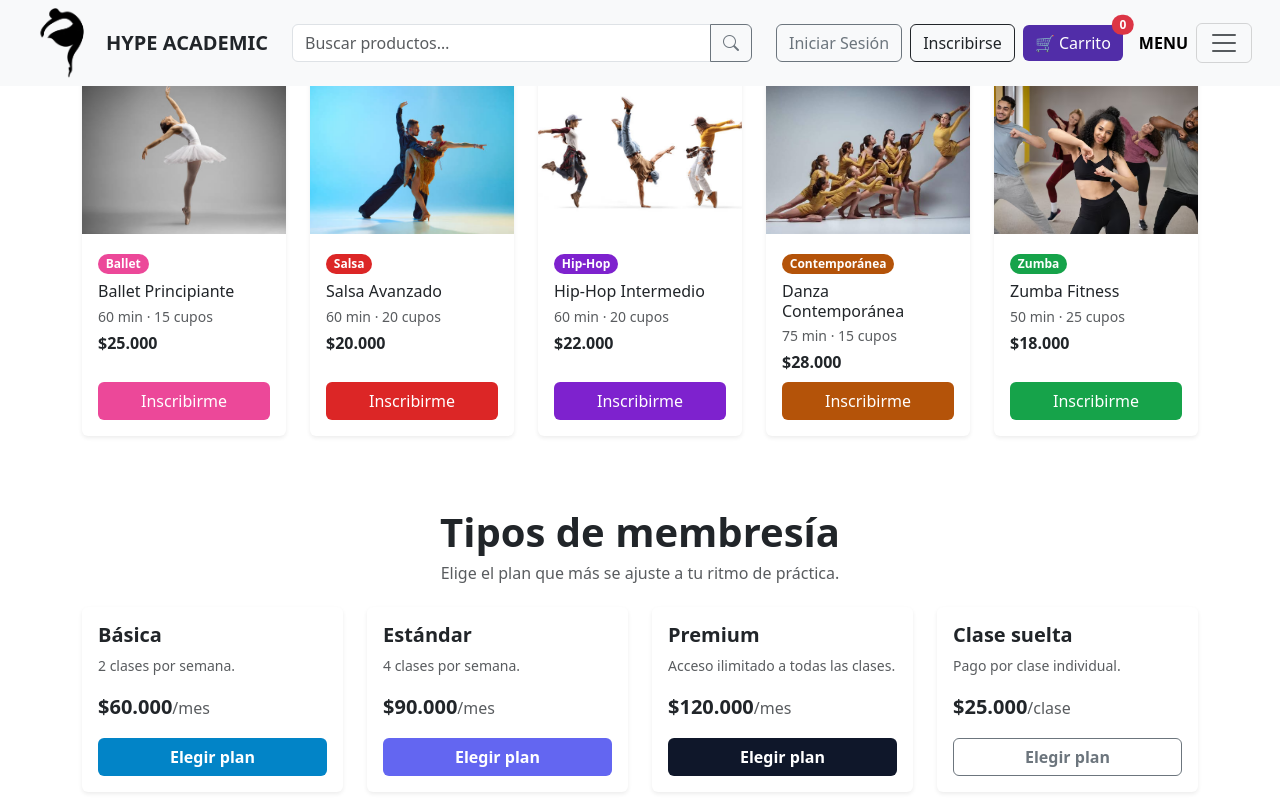
Test case: App (navegación e integración) › inscribirse a una clase actualiza el contador y abre el carrito
(page scrolled)
What coordinates should you click on to do the following:
click the button "Inscribirme" below "Ballet Principiante"
I would click on:
 (184, 401)
Its box is [98,382,270,420].
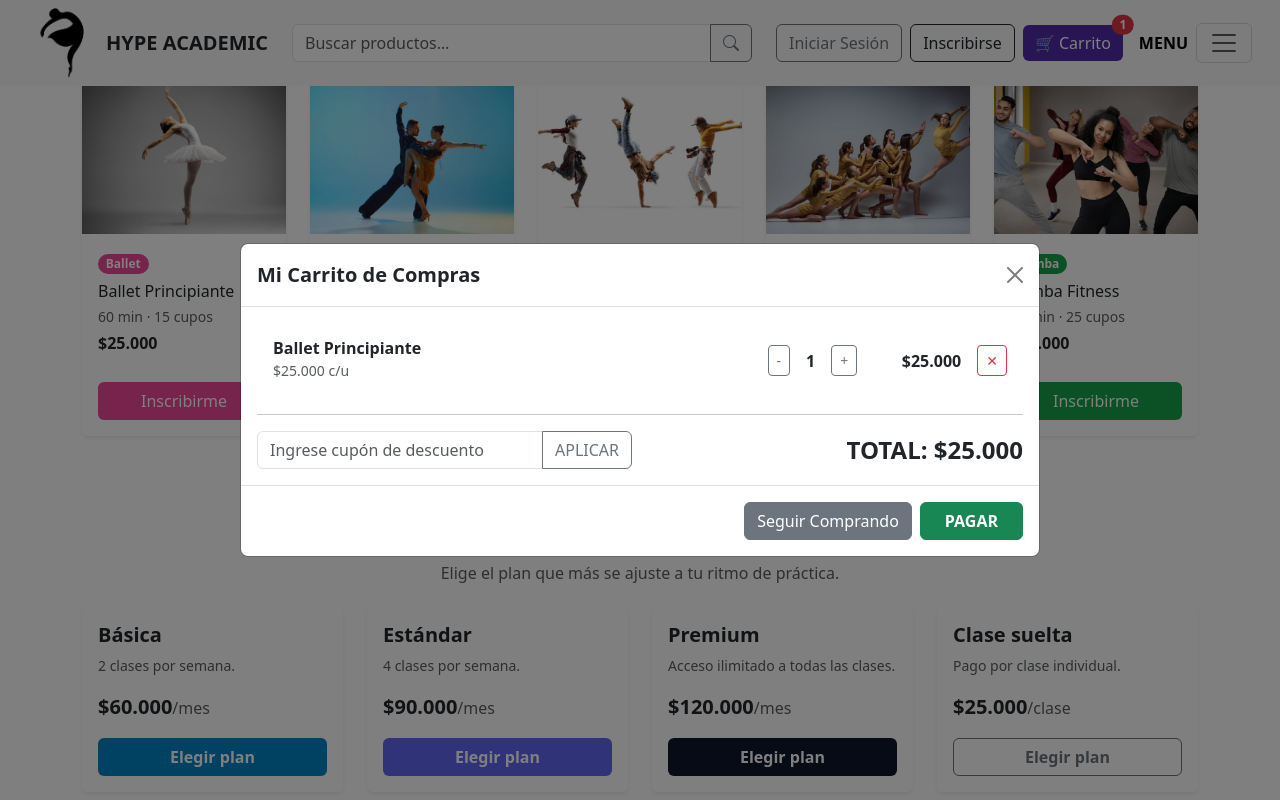
Expected: the text with test id "cart-count" reads "1", [1119,16,1126,33]
Expected: the heading "Ballet Principiante" is shown, [273,339,421,358]
